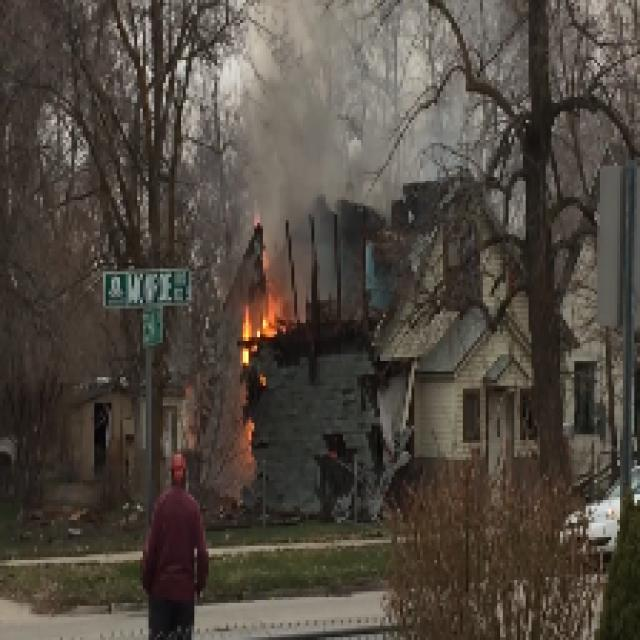smoke: (260, 117, 335, 202)
